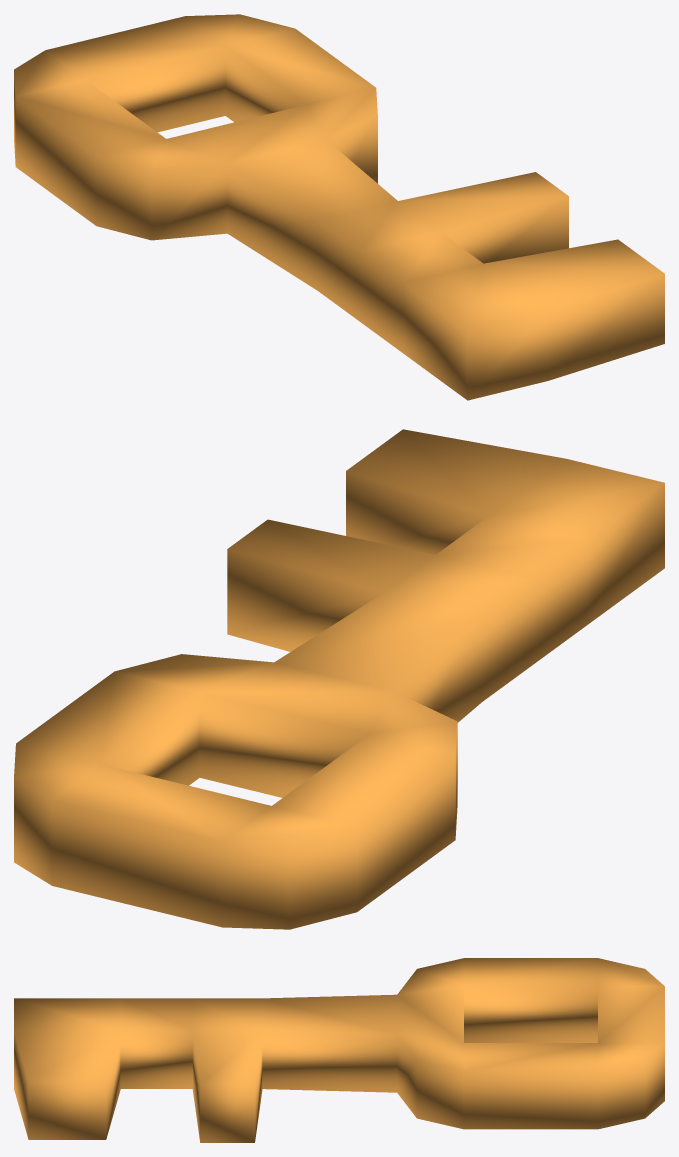
Rendered from key.fbx.
3 renders of one model, top to bottom at view 1: azimuth 30°, elevation 25°; view 2: azimuth 150°, elevation 25°; view 3: azimuth 270°, elevation 25°, orthographic. The views are drawn at different scales.
Parts seen in each view (by area): view 1: key; view 2: key; view 3: key.
Part boxes in pixels (x1=…): key: x1=14, y1=14, x2=664, y2=400; key: x1=14, y1=429, x2=664, y2=929; key: x1=14, y1=958, x2=664, y2=1142.
Size of the model in its own units: 0.1407 by 0.0301 by 0.3056.
